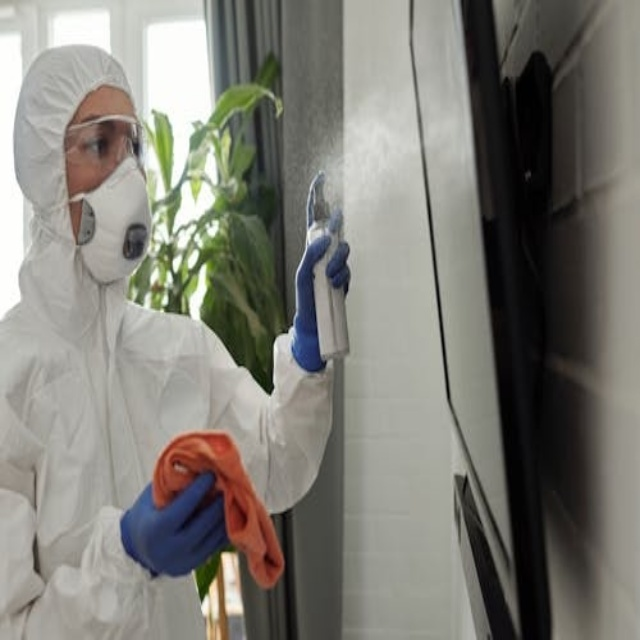Gafas: (64, 115, 148, 175)
Guantes: (121, 470, 229, 582), (290, 199, 350, 375)
Mascara: (71, 153, 152, 283)
